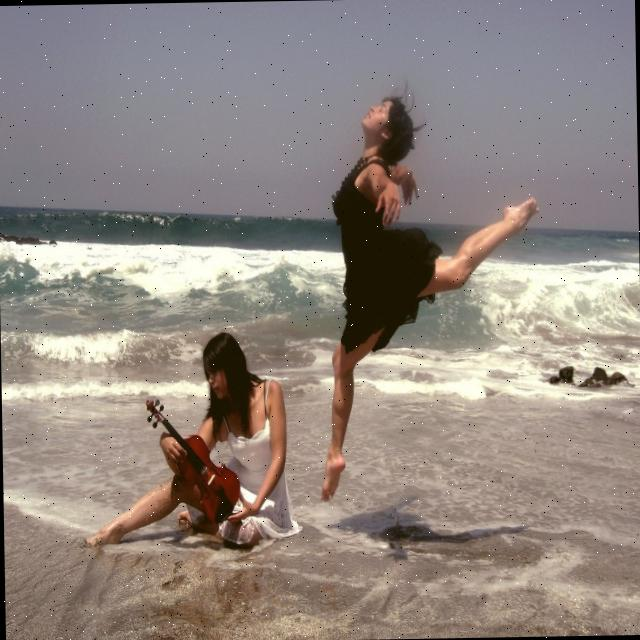violin: (142, 393, 246, 528)
